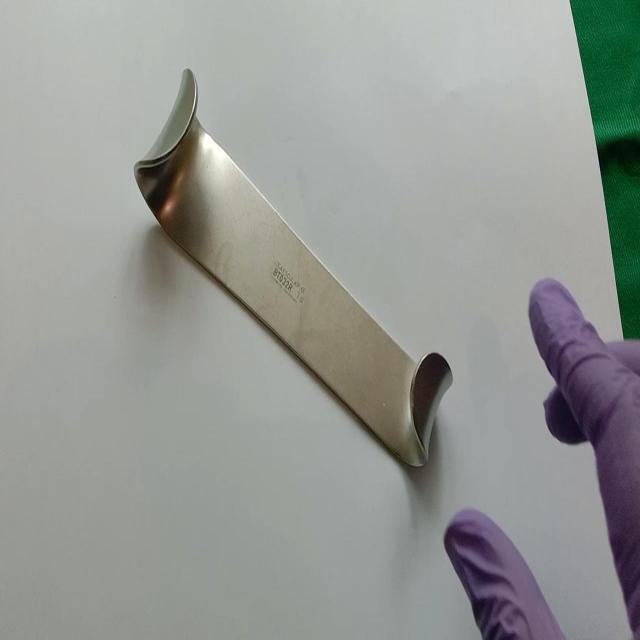CheekRetractor: (132, 66, 458, 472)
